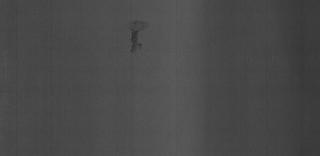water spot: (124, 17, 156, 55)
